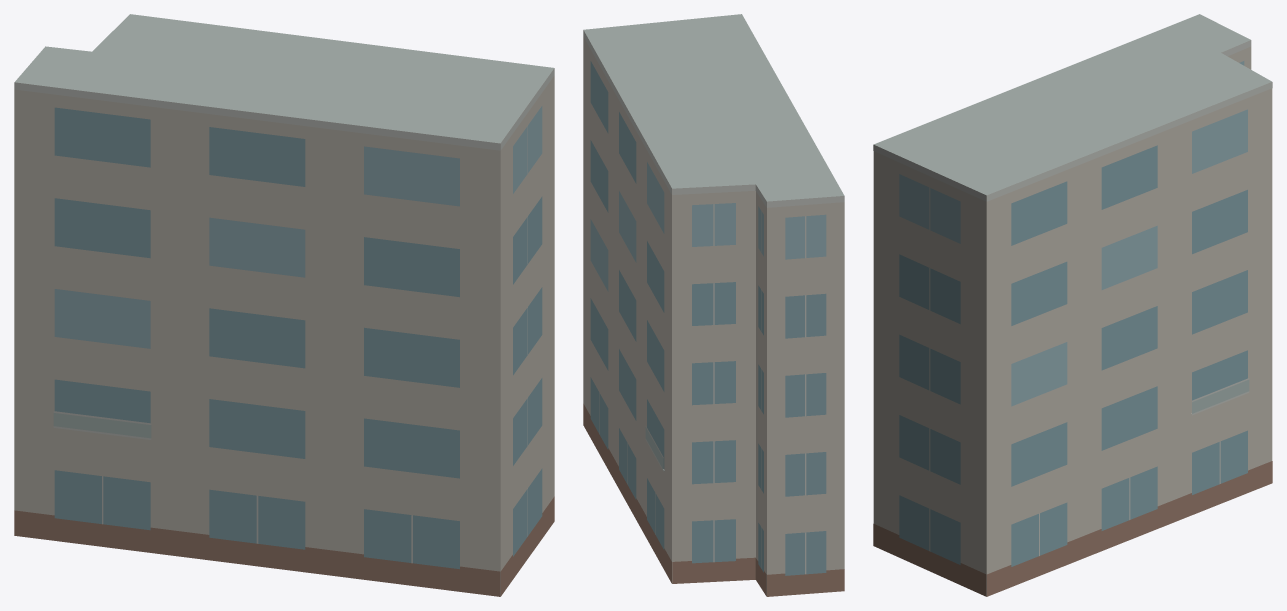
Rendered from survey-upis-32770304.glb.
3 views of the same model, side by side, from view 1: azimuth 30°, elevation 25°; view 2: azimuth 150°, elevation 25°; view 3: azimuth 270°, elevation 25° (orthographic). The views are drawn at different scales.
Visible parts, largest first — view 1: survey-upis-32770304.tmp; view 2: survey-upis-32770304.tmp; view 3: survey-upis-32770304.tmp.
Part boxes in pixels (bbox=[...]): survey-upis-32770304.tmp: bbox=[14, 14, 554, 596]; survey-upis-32770304.tmp: bbox=[583, 14, 844, 596]; survey-upis-32770304.tmp: bbox=[873, 14, 1272, 596].
Size of the model in its own units: 14.79 by 15.25 by 13.74.
